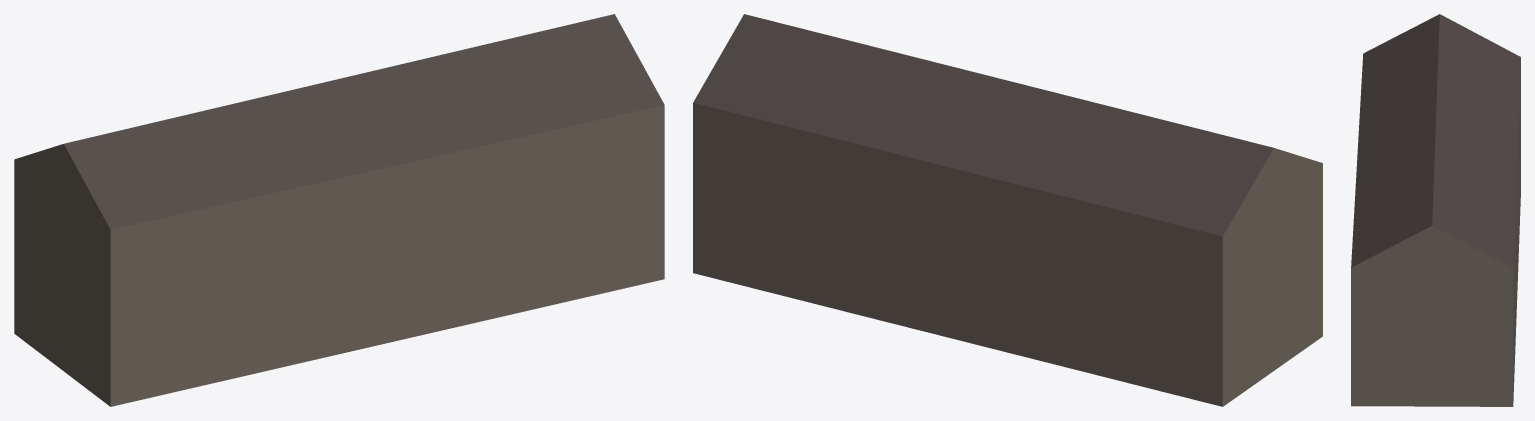
3 renders of one model, left to right at view 1: azimuth 30°, elevation 25°; view 2: azimuth 150°, elevation 25°; view 3: azimuth 270°, elevation 25°, orthographic. The views are drawn at different scales.
Visible parts, largest first — view 1: HP-w1376988861; view 2: HP-w1376988861; view 3: HP-w1376988861.
Boxes of the visible parts, x1=… form: HP-w1376988861: x1=14, y1=14, x2=664, y2=406; HP-w1376988861: x1=693, y1=14, x2=1322, y2=406; HP-w1376988861: x1=1351, y1=14, x2=1520, y2=406.
Bounding box in the file's own units: 19.78 × 7.84 × 6.67.
